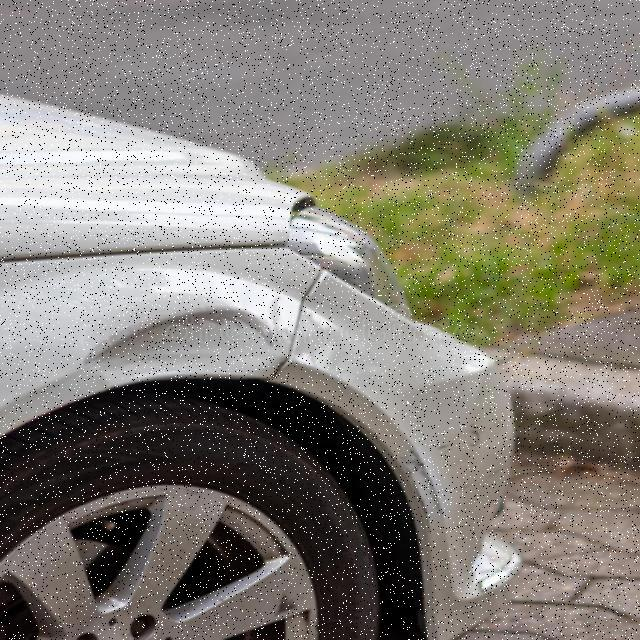fender-dent: (0, 243, 298, 528)
front-bumper-dent: (300, 279, 544, 634)
